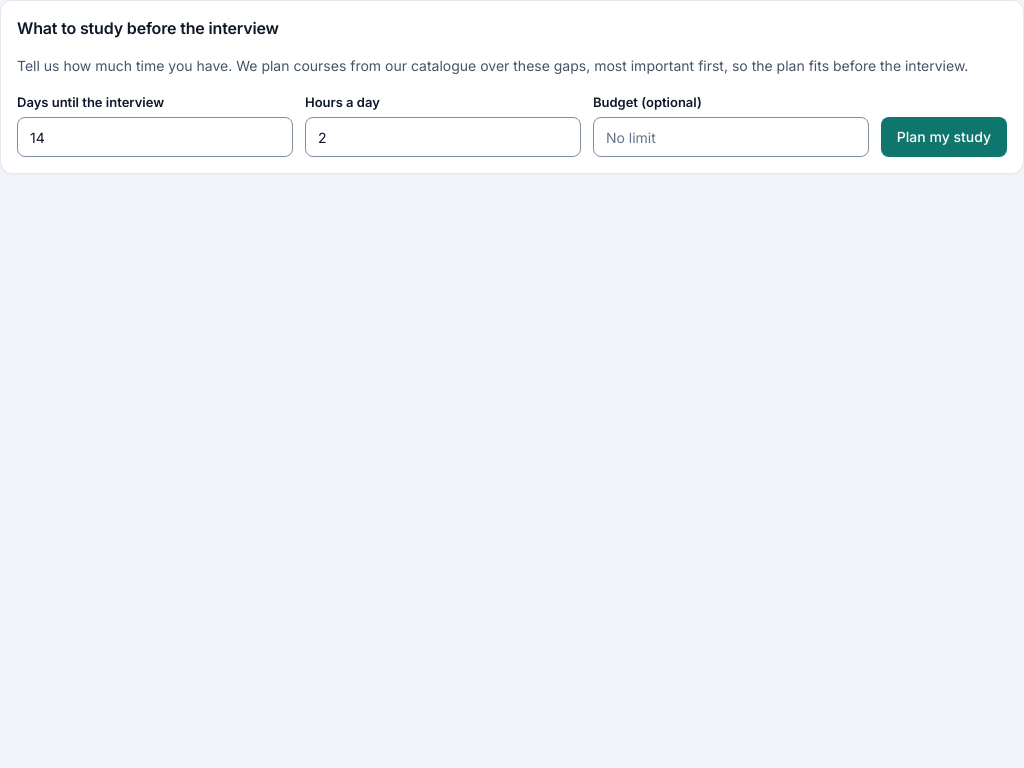
Test: JobTargetRoadmapPanel › separates what did not fit from what no course teaches
Click the button "Plan my study". click: (944,137)
box: [881,117,1007,157]
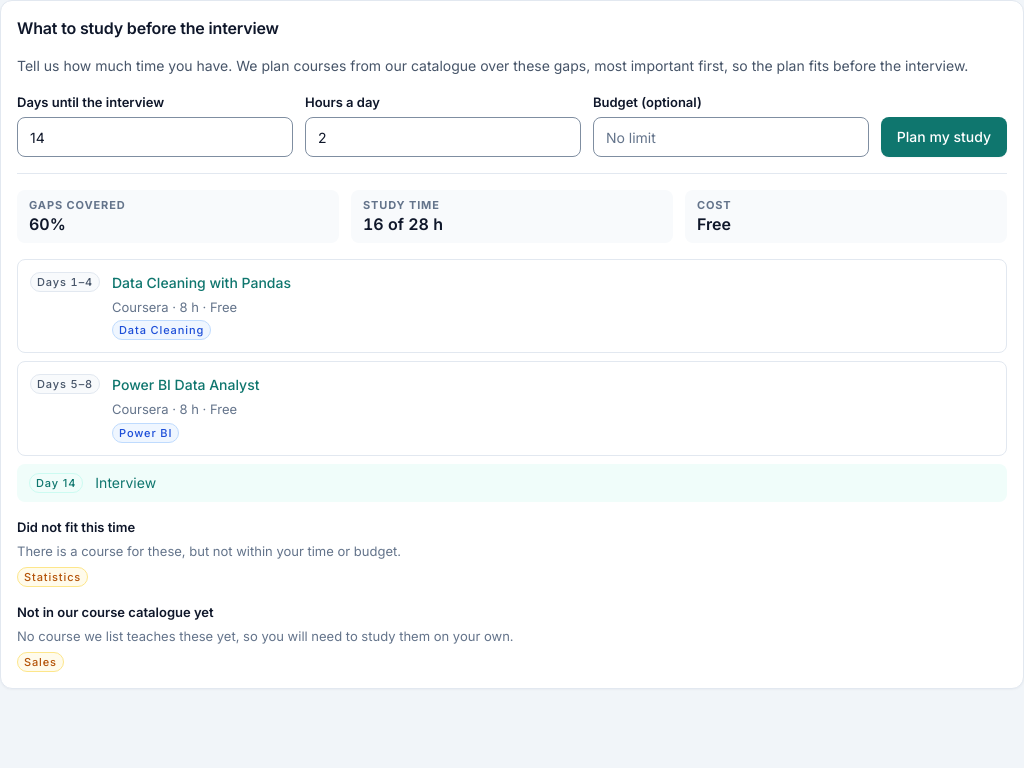
Expected: the text "Statistics" is shown, [17,567,88,587]
Expected: the text "Sales" is shown, [17,652,64,672]
